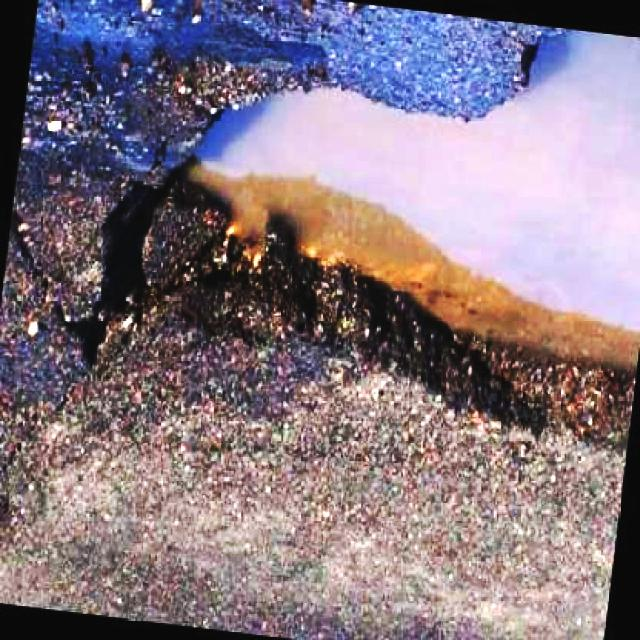pothole: (172, 23, 640, 431), (78, 175, 174, 368)
